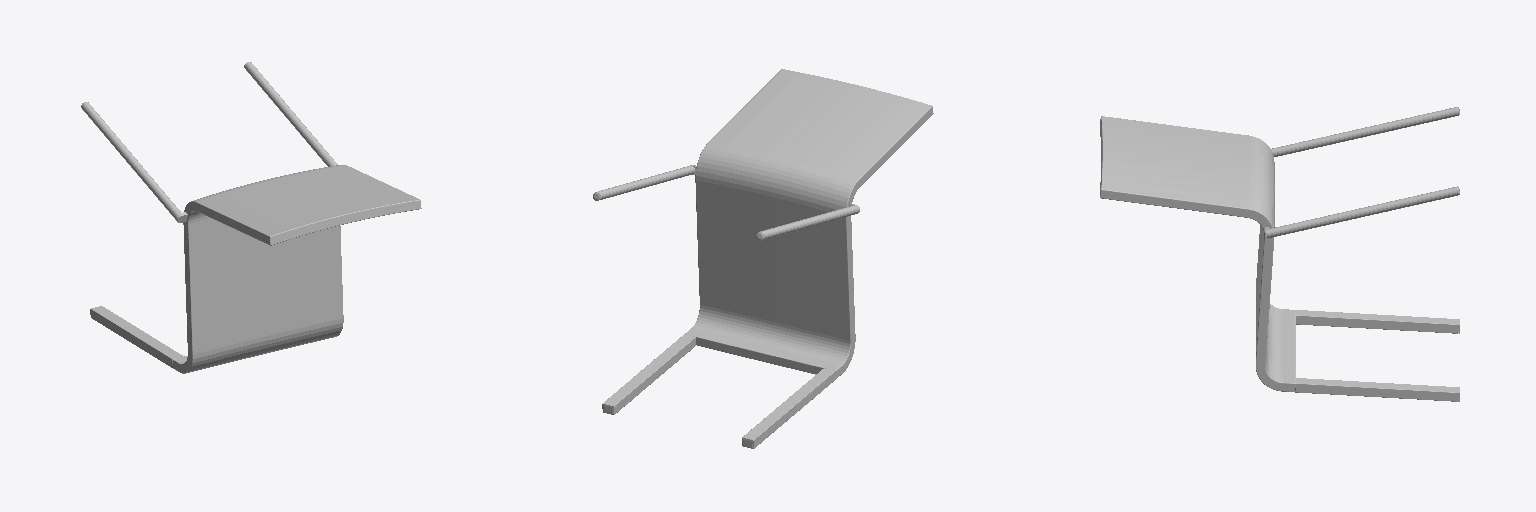
Rendered from Vitra03.obj.
The picture shows the model from 3 angles: view 1: azimuth 30°, elevation 25°; view 2: azimuth 150°, elevation 25°; view 3: azimuth 270°, elevation 25°; orthographic projection.
Visible parts, largest first — view 1: Vitra_03_Seat, Vitra_03_ChairLegs02, Vitra_03_ChairLegs01; view 2: Vitra_03_Seat, Vitra_03_ChairLegs01, Vitra_03_ChairLegs02; view 3: Vitra_03_Seat, Vitra_03_ChairLegs01, Vitra_03_ChairLegs02.
Boxes of the visible parts, box(x1,y1,x2,y2) form: Vitra_03_Seat: box(173, 165, 421, 373); Vitra_03_ChairLegs02: box(81, 62, 337, 222); Vitra_03_ChairLegs01: box(91, 306, 183, 367); Vitra_03_Seat: box(685, 69, 933, 378); Vitra_03_ChairLegs01: box(604, 334, 835, 448); Vitra_03_ChairLegs02: box(598, 165, 859, 239); Vitra_03_Seat: box(1100, 116, 1295, 391); Vitra_03_ChairLegs01: box(1295, 310, 1458, 401); Vitra_03_ChairLegs02: box(1265, 107, 1458, 238).
Bounding box in the file's own units: 17 × 20.73 × 31.03.